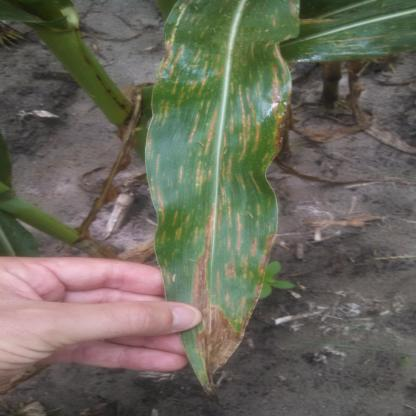Corn leaf blight: (141, 2, 311, 396)
